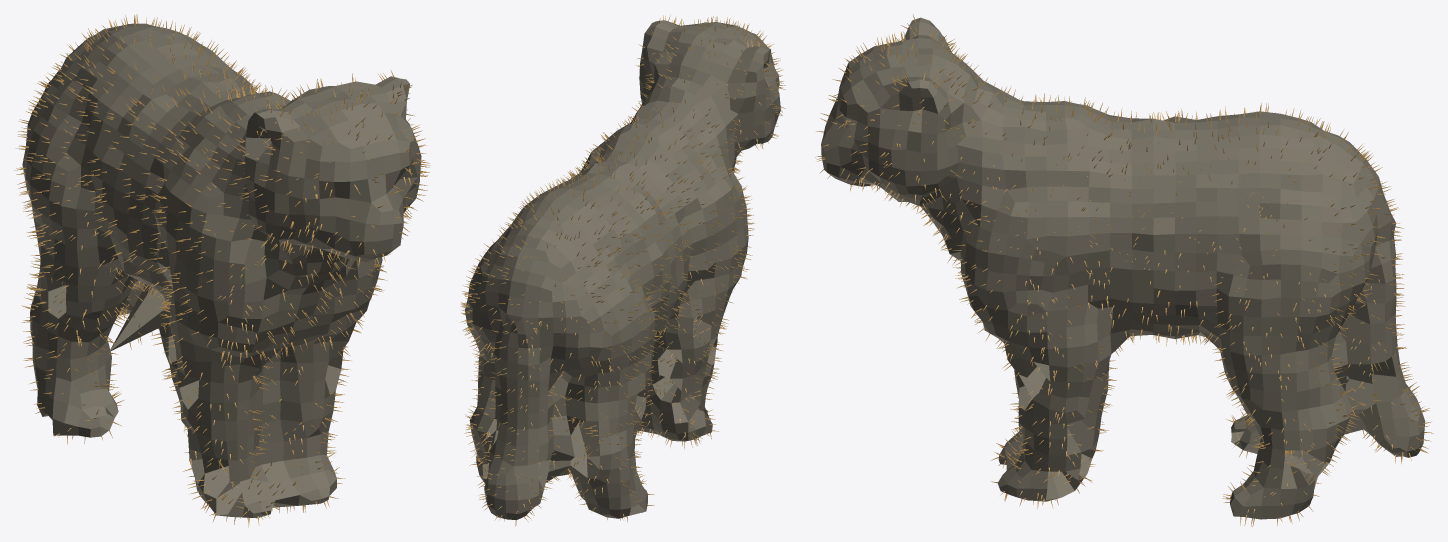
The model's file is selected-carrier-with-static-groom.glb.
The picture shows the model from 3 angles, left to right: view 1: azimuth 30°, elevation 25°; view 2: azimuth 150°, elevation 25°; view 3: azimuth 270°, elevation 25°; orthographic projection. The views are drawn at different scales.
Visible parts, largest first — view 1: visually-selected-carrier, static-replacement-groom; view 2: visually-selected-carrier, static-replacement-groom; view 3: visually-selected-carrier, static-replacement-groom.
Part boxes in pixels (bbox=[...]): visually-selected-carrier: bbox=[22, 23, 421, 518]; static-replacement-groom: bbox=[14, 14, 430, 527]; visually-selected-carrier: bbox=[465, 20, 780, 519]; static-replacement-groom: bbox=[460, 15, 785, 526]; visually-selected-carrier: bbox=[821, 17, 1425, 519]; static-replacement-groom: bbox=[815, 14, 1433, 526].
Size of the model in its own units: 0.3887 by 0.8024 by 0.9997.
